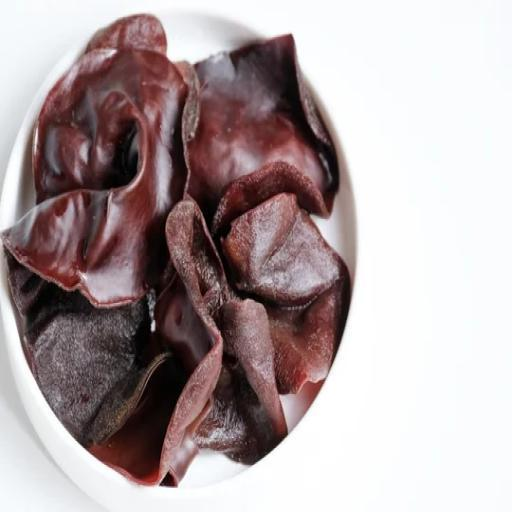mushroom: (3, 16, 363, 487)
